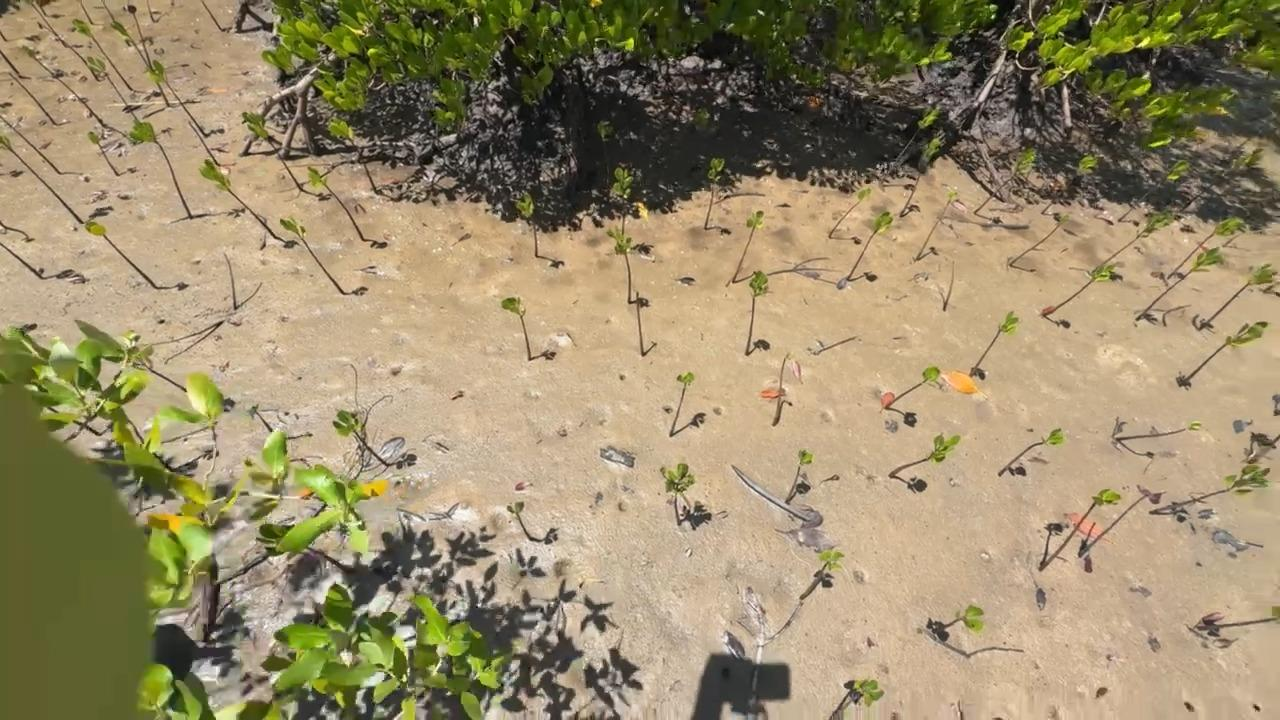Tree: (0, 136, 84, 224), (22, 46, 108, 128), (1135, 246, 1225, 321), (1039, 489, 1120, 572), (1077, 484, 1167, 558), (129, 118, 193, 220), (1148, 464, 1272, 516), (199, 159, 277, 238), (1179, 321, 1268, 386), (1198, 262, 1279, 330), (1180, 148, 1265, 212), (109, 21, 170, 108), (143, 59, 209, 138), (84, 220, 159, 289), (241, 112, 305, 191), (1166, 216, 1246, 279), (279, 220, 347, 294), (880, 107, 941, 189), (256, 523, 352, 574), (306, 166, 366, 241), (72, 19, 134, 91), (1118, 160, 1190, 222), (973, 146, 1037, 215), (1103, 208, 1175, 265), (328, 116, 380, 194), (37, 21, 100, 81), (1042, 265, 1114, 316), (0, 116, 62, 175), (899, 138, 944, 218), (1040, 154, 1099, 215), (997, 428, 1068, 477), (968, 310, 1019, 377), (332, 410, 390, 467), (1009, 213, 1070, 267), (846, 211, 893, 281), (889, 433, 961, 478), (915, 191, 959, 261), (128, 345, 188, 393), (732, 209, 767, 285), (7, 72, 57, 125), (885, 367, 940, 410), (660, 462, 696, 526), (830, 679, 885, 720), (799, 551, 844, 601), (828, 187, 871, 239), (122, 6, 155, 73), (743, 270, 769, 355), (1197, 605, 1280, 631), (607, 225, 633, 304), (501, 298, 533, 361), (1232, 114, 1280, 154), (28, 0, 67, 48), (1113, 421, 1202, 442), (0, 243, 45, 279), (785, 450, 815, 504), (703, 157, 725, 230), (669, 372, 694, 436), (515, 192, 539, 258), (612, 167, 633, 242), (932, 604, 985, 633), (187, 121, 220, 166), (772, 353, 792, 426), (88, 132, 120, 176), (596, 120, 613, 186), (507, 500, 535, 539), (222, 253, 238, 310), (812, 336, 858, 355), (243, 404, 273, 433), (201, 0, 223, 32), (636, 291, 646, 357), (943, 261, 955, 311), (0, 51, 20, 75), (79, 0, 95, 25), (101, 0, 116, 22), (146, 0, 156, 23), (36, 0, 48, 18), (1268, 433, 1280, 448), (0, 31, 9, 42), (0, 222, 7, 229), (171, 0, 175, 7)
